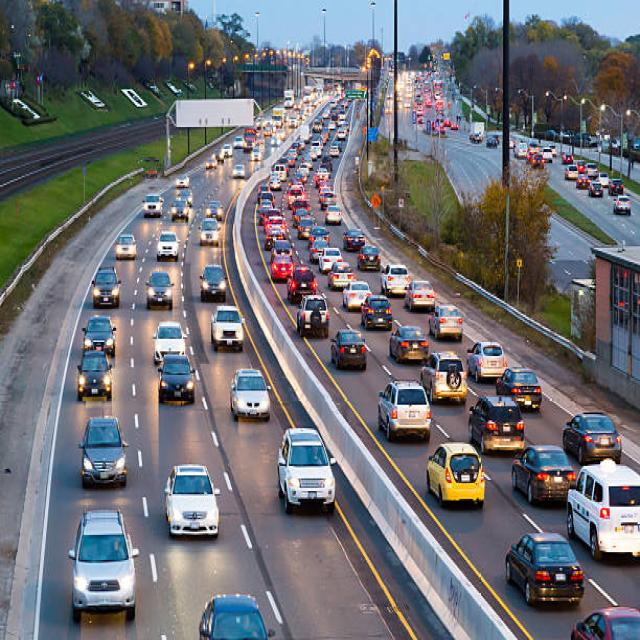Car: (67, 506, 139, 620), (504, 532, 584, 605), (276, 426, 336, 514), (163, 463, 219, 538), (511, 444, 576, 505), (426, 441, 484, 506), (78, 414, 128, 488), (376, 378, 431, 441), (199, 593, 275, 638), (467, 394, 524, 453), (562, 411, 622, 464), (570, 606, 639, 638), (494, 365, 542, 411), (229, 367, 270, 420), (75, 350, 112, 400), (158, 353, 194, 403), (467, 339, 506, 383), (210, 304, 244, 352), (389, 323, 429, 362), (329, 328, 366, 370), (152, 320, 185, 364), (82, 314, 116, 356), (428, 303, 463, 340), (91, 265, 121, 308), (144, 268, 174, 309), (360, 294, 392, 329), (380, 262, 411, 296), (199, 264, 227, 301), (404, 279, 435, 311), (156, 230, 180, 260), (198, 216, 220, 246), (114, 234, 136, 259), (141, 193, 163, 216)
